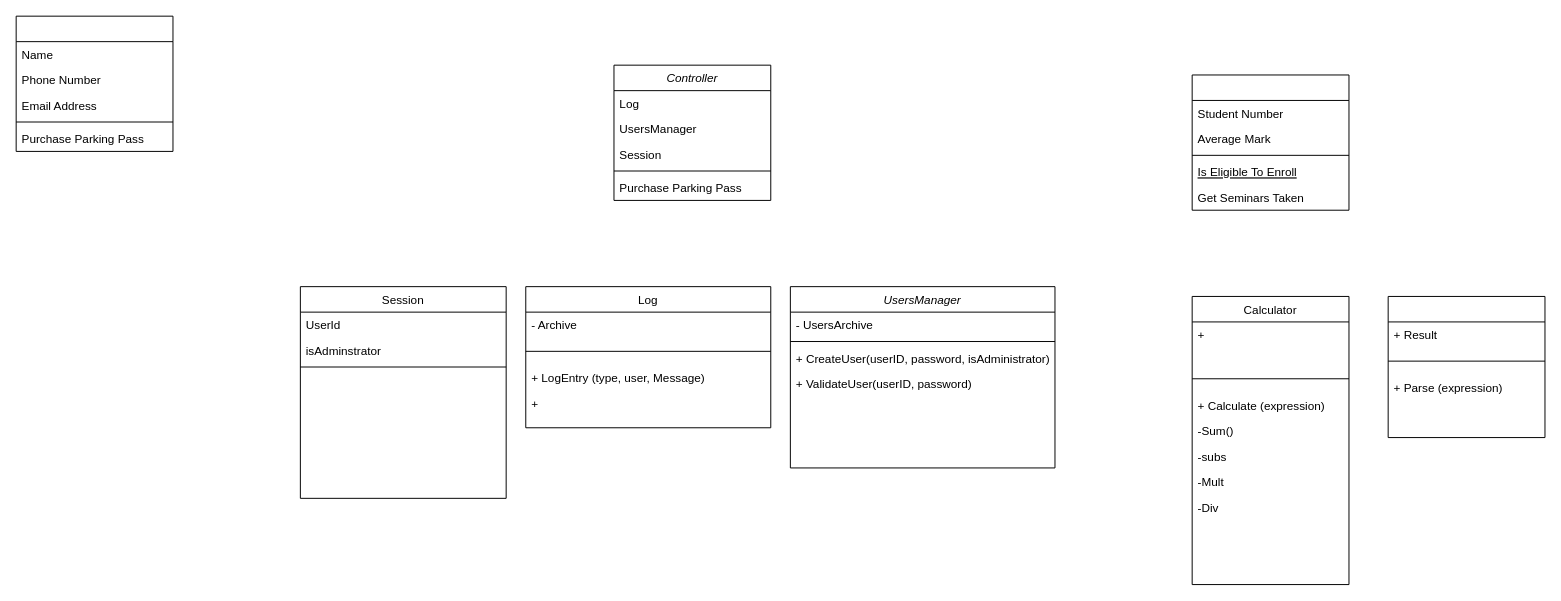
Some shapes in this 1561 by 601 pixel diagram are drawn without their labels. Here are the shapes that lost their labels. From the top down, the box of each, then its label:
(15, 15, 173, 151): View
(1191, 74, 1349, 210): Model
(1387, 295, 1545, 438): Parser
